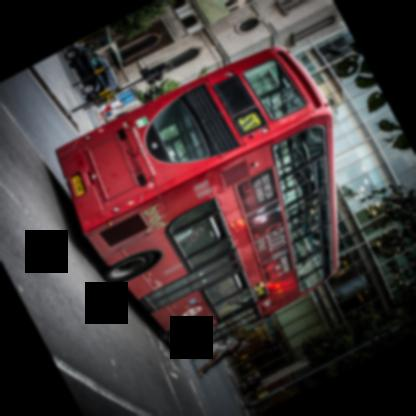handbag: (218, 342, 227, 347)
